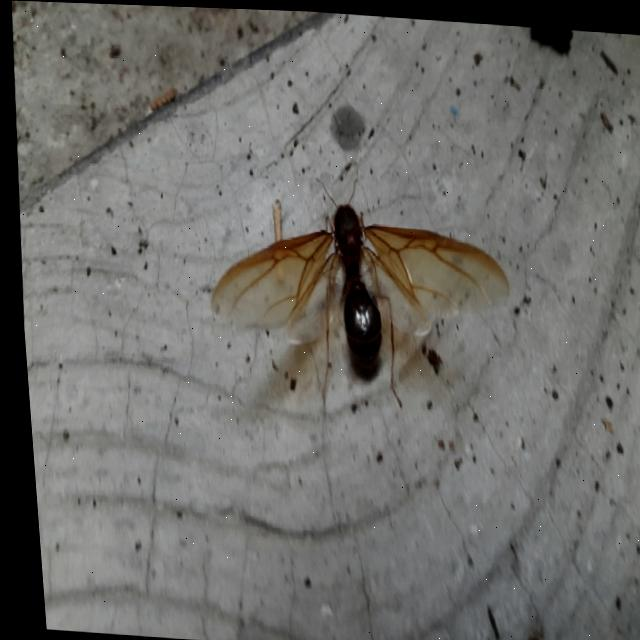Alive-Male-Alate: (194, 164, 516, 411)
